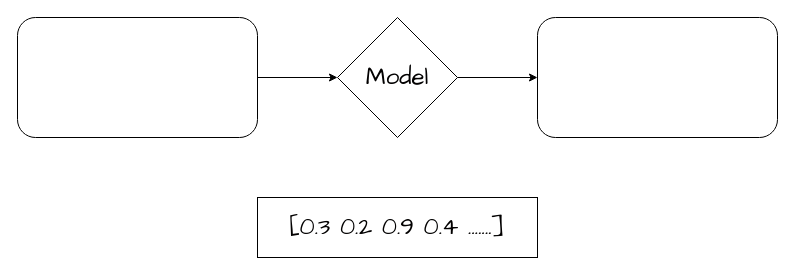
This 795x275 diagram has some shape labels left out. Each missing label, with the centre of its shape:
"Unstructured Data" goes at point (137, 77).
"Vector Embedding" goes at point (657, 77).
